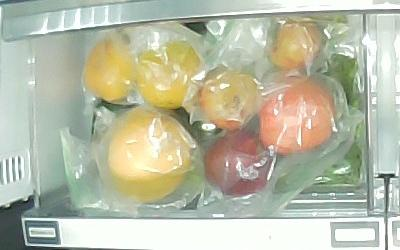apple_vinyl: (258, 77, 336, 155), (205, 129, 273, 194)
grapefruit_vinyl: (108, 107, 190, 200)
persimmon_vinyl: (137, 40, 204, 107), (83, 38, 137, 101)
prune_vinyl: (200, 70, 265, 129), (267, 17, 324, 71)
